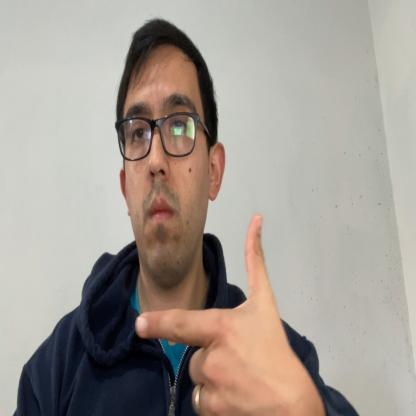G: (135, 211, 293, 415)
